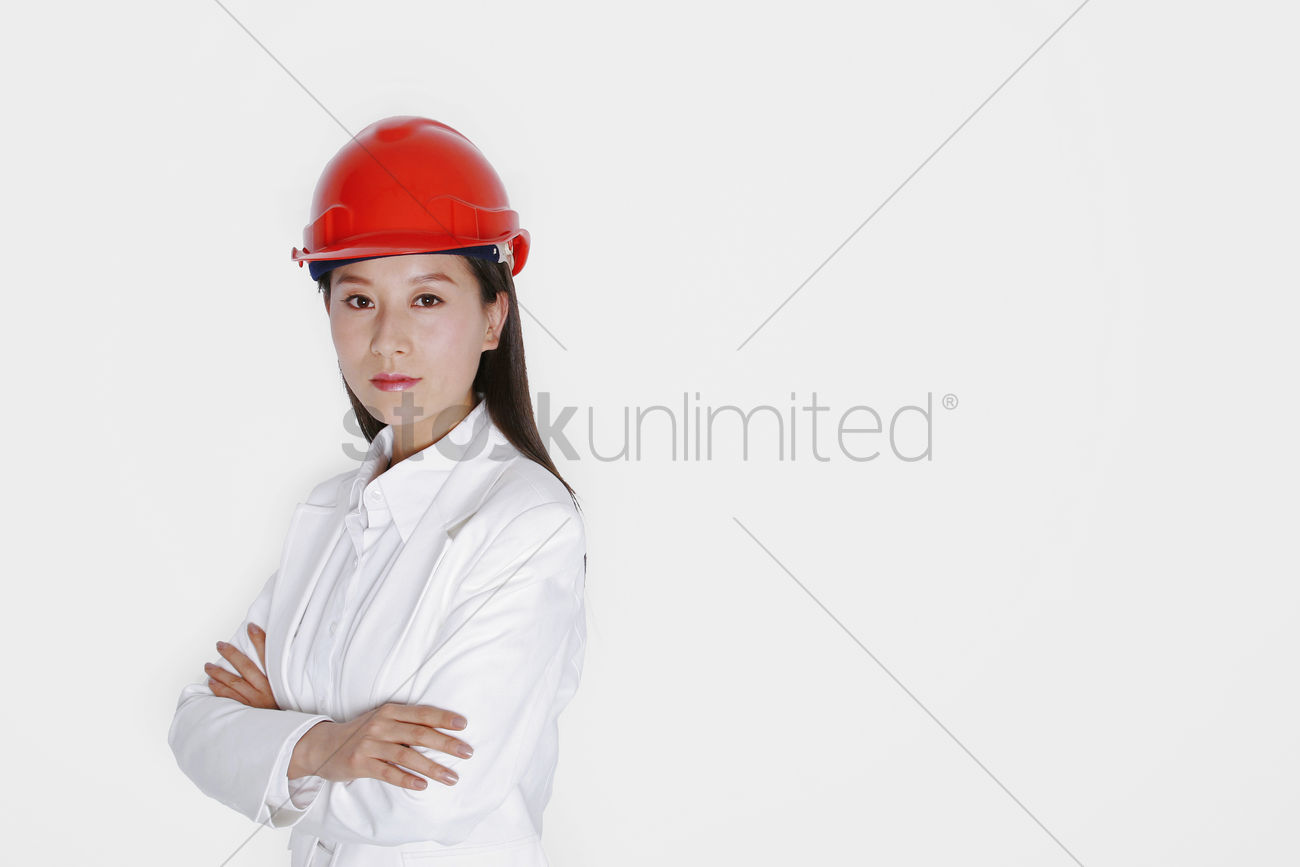Person_wearing_helmet: (285, 80, 531, 337)
